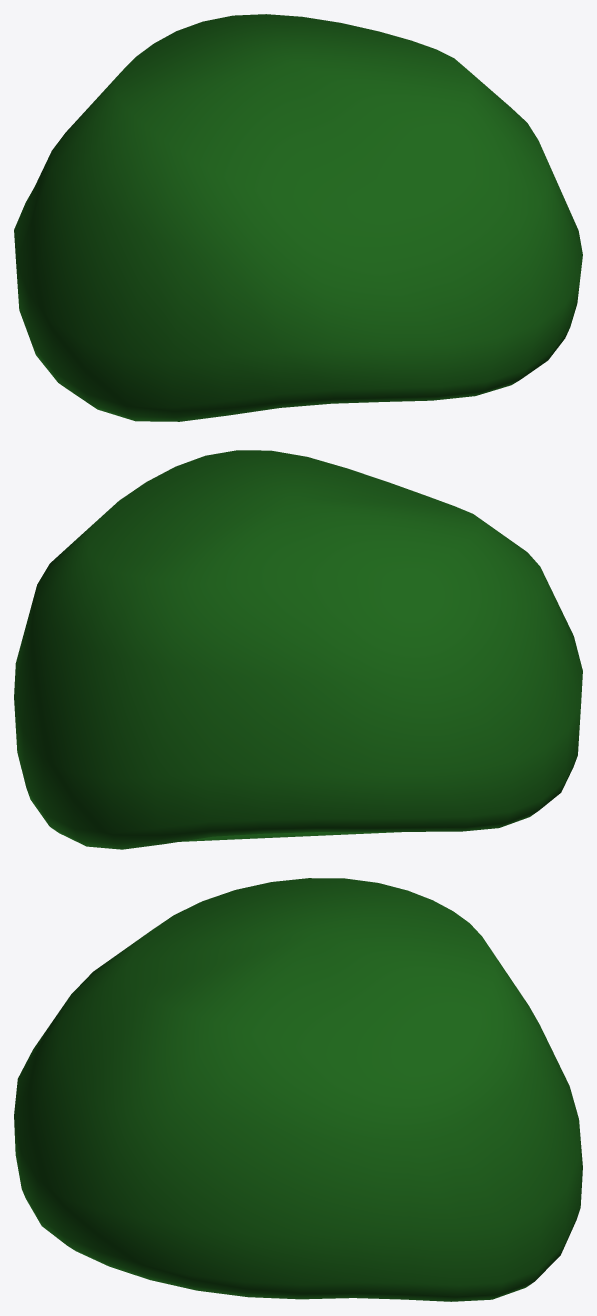
File: Chioma.fbx
3 views of the same model, one above another, from view 1: azimuth 30°, elevation 25°; view 2: azimuth 150°, elevation 25°; view 3: azimuth 270°, elevation 25° (orthographic).
Visible parts, largest first — view 1: Cylinder.000; view 2: Cylinder.000; view 3: Cylinder.000.
Boxes of the visible parts, x1,y1,x2,y2 form: Cylinder.000: (14, 14, 582, 421); Cylinder.000: (14, 450, 582, 849); Cylinder.000: (14, 878, 582, 1301).
Bounding box in the file's own units: 635 × 356 × 624.
